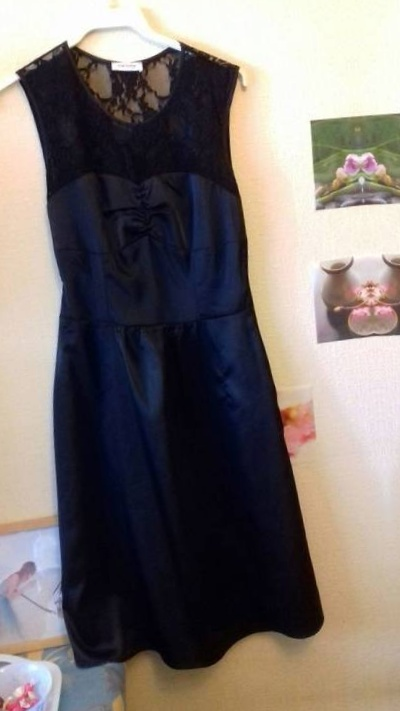Dress: (0, 0, 363, 687), (385, 0, 400, 655)
